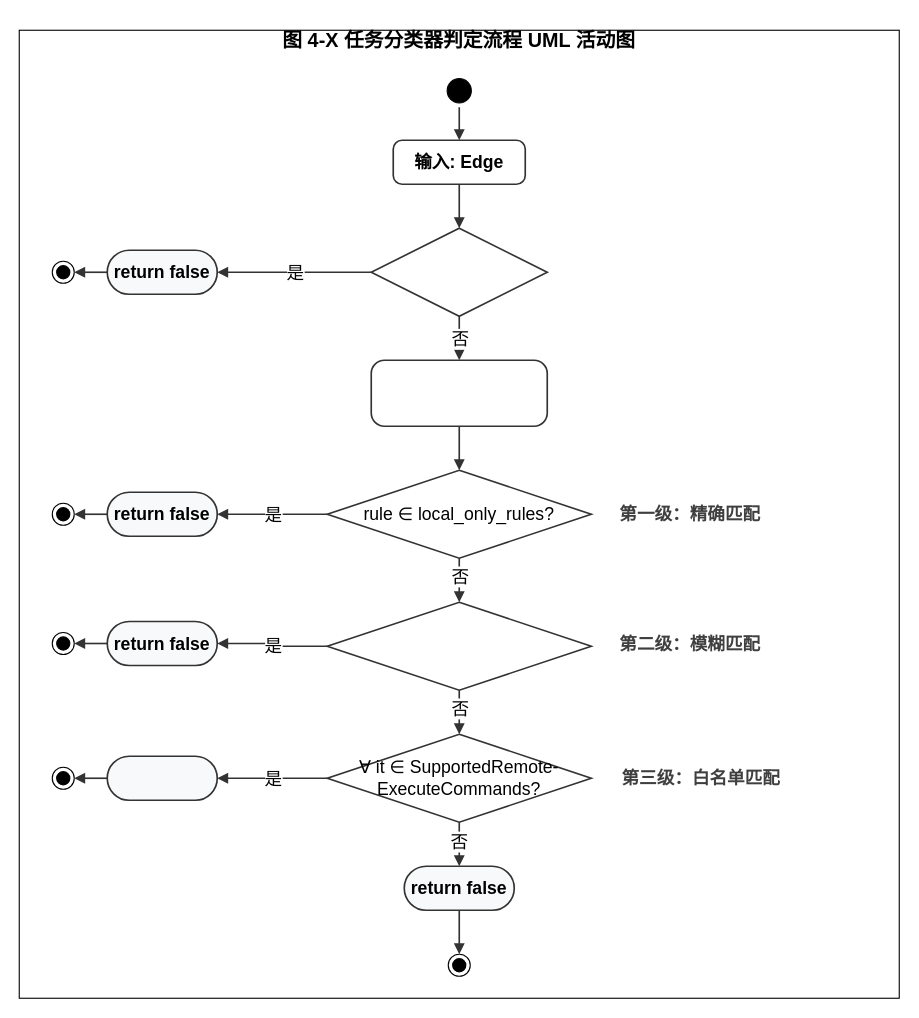
This 919x1018 diagram has some shape labels left out. Each missing label, with the box of its shape:
edge == NULL?: (370, 227, 548, 317)
return true: (106, 755, 218, 801)
∀ cmd ∈ local_only_fuzzy?: (326, 601, 592, 691)
提取 rule 名称 提取 command 字符串: (370, 359, 548, 427)
